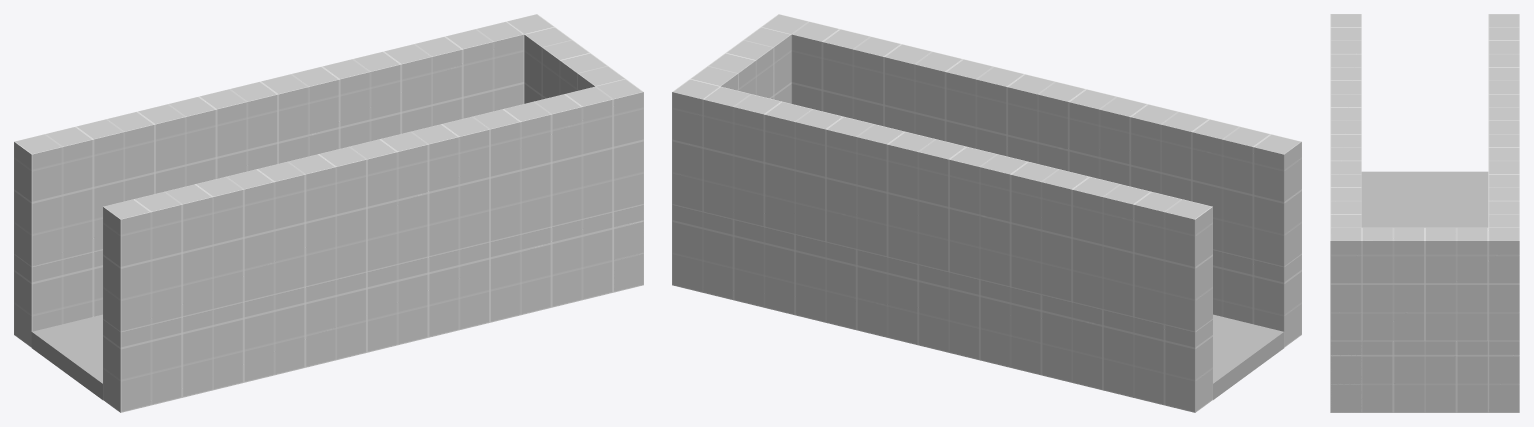
File: EastWestHallwayEastDoor.unity_7.obj
3 views of the same model, side by side, from view 1: azimuth 30°, elevation 25°; view 2: azimuth 150°, elevation 25°; view 3: azimuth 270°, elevation 25° (orthographic). The views are drawn at different scales.
Visible parts, largest first — view 1: UpperWallW, UpperWallE, LowerWallW, LowerWallE, UpperWallS, Floor, LowerWallS; view 2: UpperWallE, UpperWallW, LowerWallE, UpperWallS, LowerWallW, Floor; view 3: UpperWallS, LowerWallS, UpperWallW, Floor, UpperWallE, LowerWallE, LowerWallW.
Part boxes in pixels (<box>): UpperWallW: <box>103,79,643,332</box>; UpperWallE: <box>14,21,524,267</box>; LowerWallW: <box>103,205,643,412</box>; LowerWallE: <box>14,250,102,347</box>; UpperWallS: <box>507,14,625,103</box>; Floor: <box>31,314,102,399</box>; LowerWallS: <box>613,205,643,292</box>; UpperWallE: <box>702,86,1212,332</box>; UpperWallW: <box>761,14,1301,267</box>; LowerWallE: <box>672,205,1212,412</box>; UpperWallS: <box>672,27,791,211</box>; LowerWallW: <box>1213,250,1301,347</box>; Floor: <box>1213,314,1284,399</box>; UpperWallS: <box>1361,227,1519,341</box>; LowerWallS: <box>1330,341,1488,412</box>; UpperWallW: <box>1330,14,1361,341</box>; Floor: <box>1361,171,1488,227</box>; UpperWallE: <box>1488,14,1519,227</box>; LowerWallE: <box>1488,341,1519,412</box>; LowerWallW: <box>1330,341,1361,412</box>.
Bounding box in the file's own units: 8.5 × 3.01 × 3.
